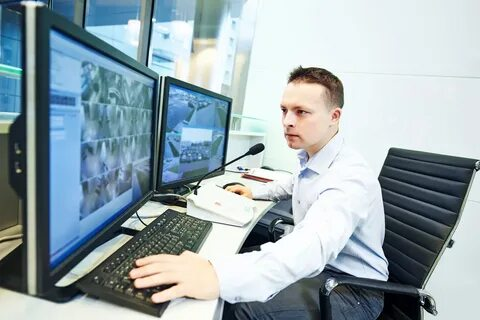awake: (226, 65, 389, 320)
